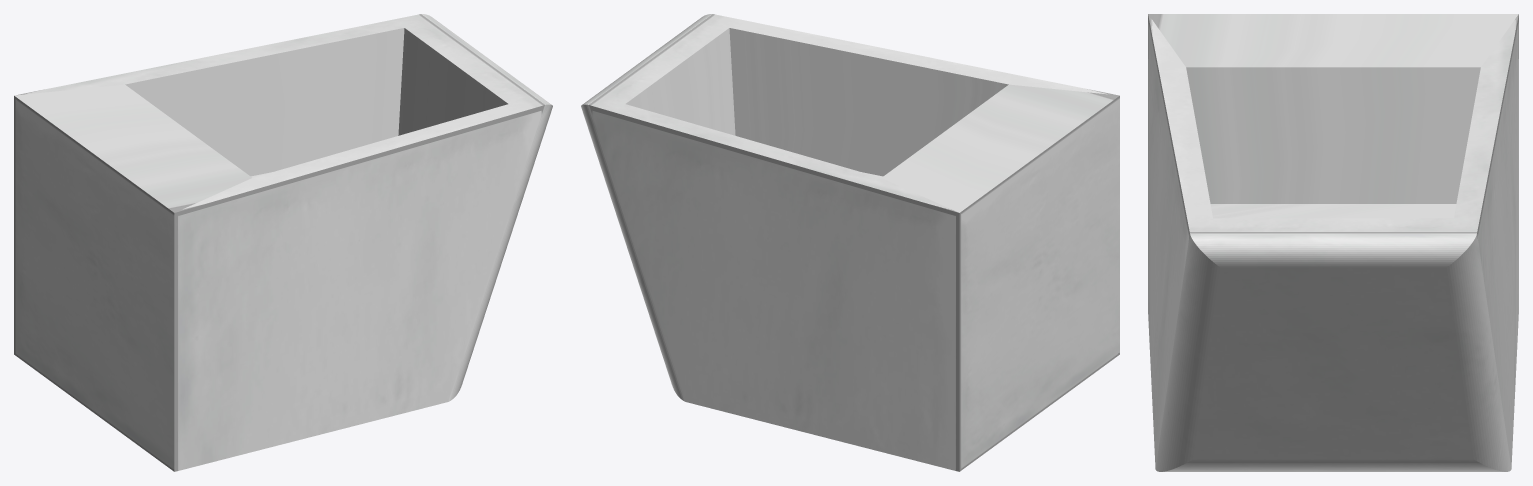
Rendered from Toilet_Bowl.fbx.
3 views of the same model, side by side, from view 1: azimuth 30°, elevation 25°; view 2: azimuth 150°, elevation 25°; view 3: azimuth 270°, elevation 25° (orthographic). The views are drawn at different scales.
Parts seen in each view (by area): view 1: Cube.001; view 2: Cube.001; view 3: Cube.001.
Part boxes in pixels (x1,y1,x2,y2): Cube.001: (14,14,552,471); Cube.001: (581,14,1119,471); Cube.001: (1148,14,1518,471).
Size of the model in its own units: 43 by 26.47 by 29.72.
